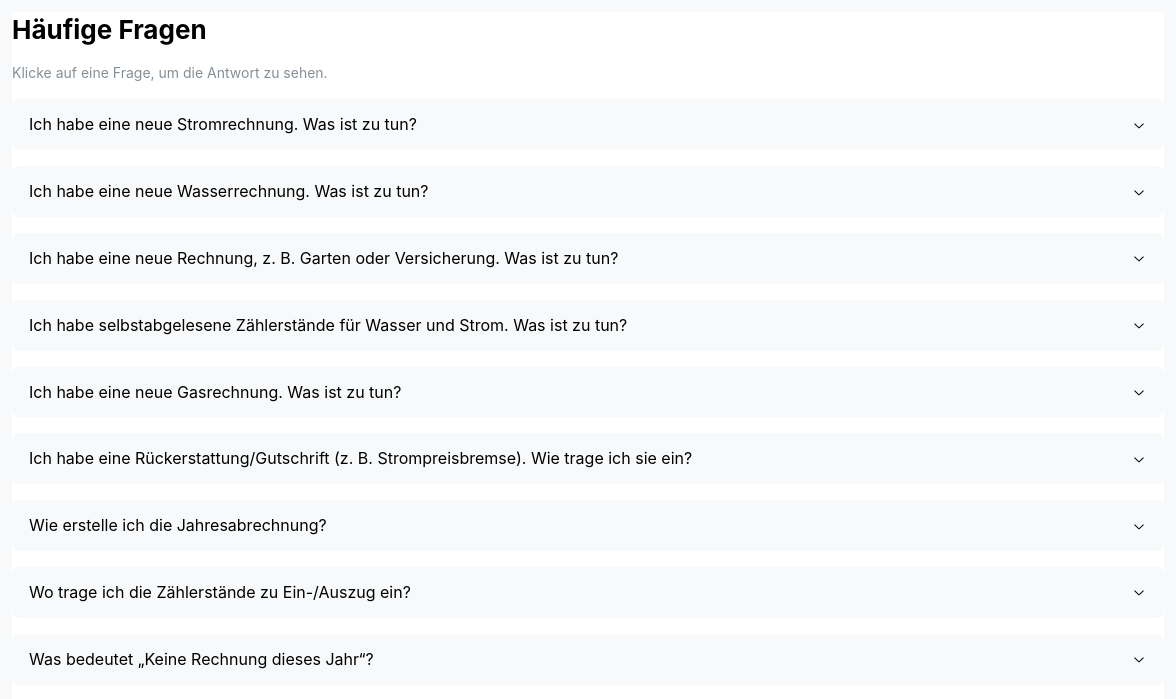
Scenario: FaqPage › öffnet immer nur eine Frage gleichzeitig
Click the button "Ich habe eine neue Stromrechnung. Was ist zu tun?". click: (223, 124)
box: [13,100,1163,149]
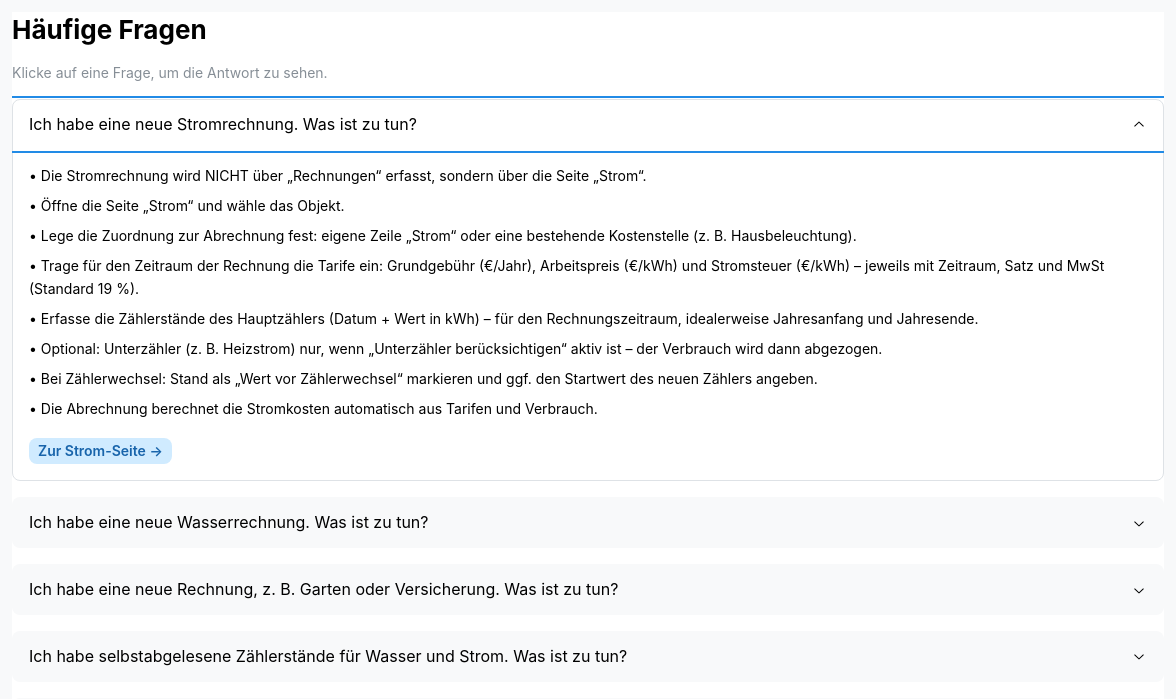
Result: the text "Die Stromrechnung wird NICHT über „Rechnungen“ erfasst" is shown at [41,167,647,184]
Zweite Frage öffnen → die erste wird geschlossen
Click the button "z. B. Garten oder Versicherung". click: (588, 590)
box: [13,565,1163,614]
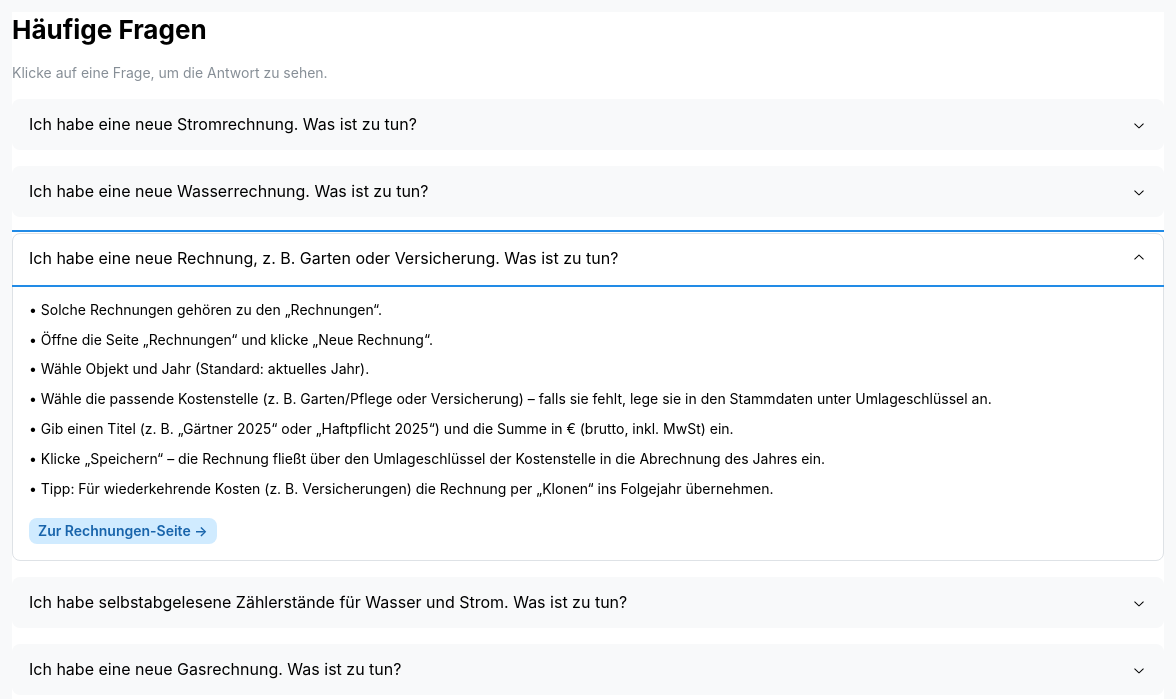
Result: the text "Wähle die passende Kostenstelle (z. B. Garten/Pflege oder Versicherung)" is shown at [41,390,992,407]
Result: the text "Die Stromrechnung wird NICHT über „Rechnungen“ erfasst" is gone
